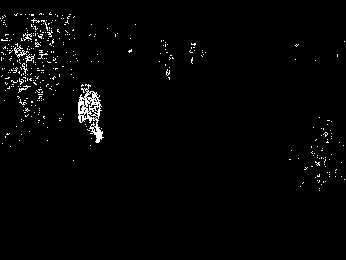person: (76, 83, 106, 145)
